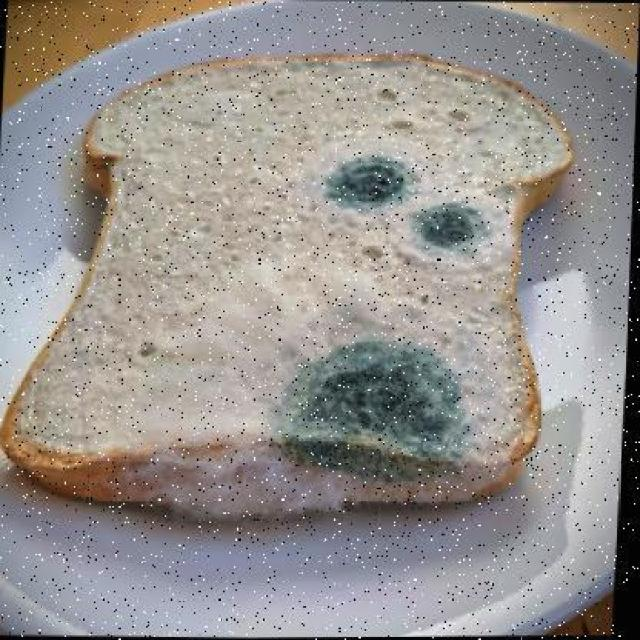mold_bread: (276, 337, 474, 471), (322, 149, 409, 211), (410, 197, 486, 261)
